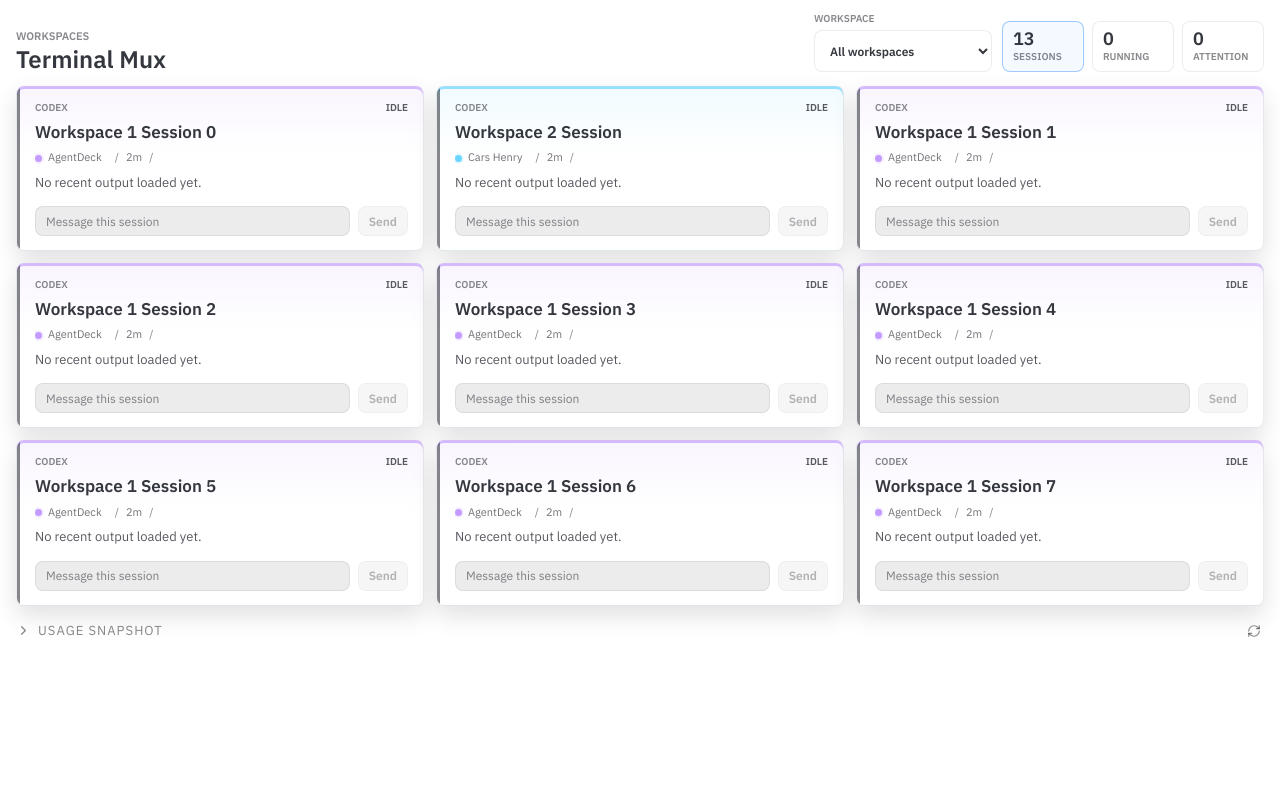
Home › caps a workspace-filtered session deck at nine tiles
The width and height of the screenshot is (1280, 800).
Select "AgentDeck (12)" in the dropdown named "Filter sessions by workspace" at (903, 51), box 814,30 -> 992,72
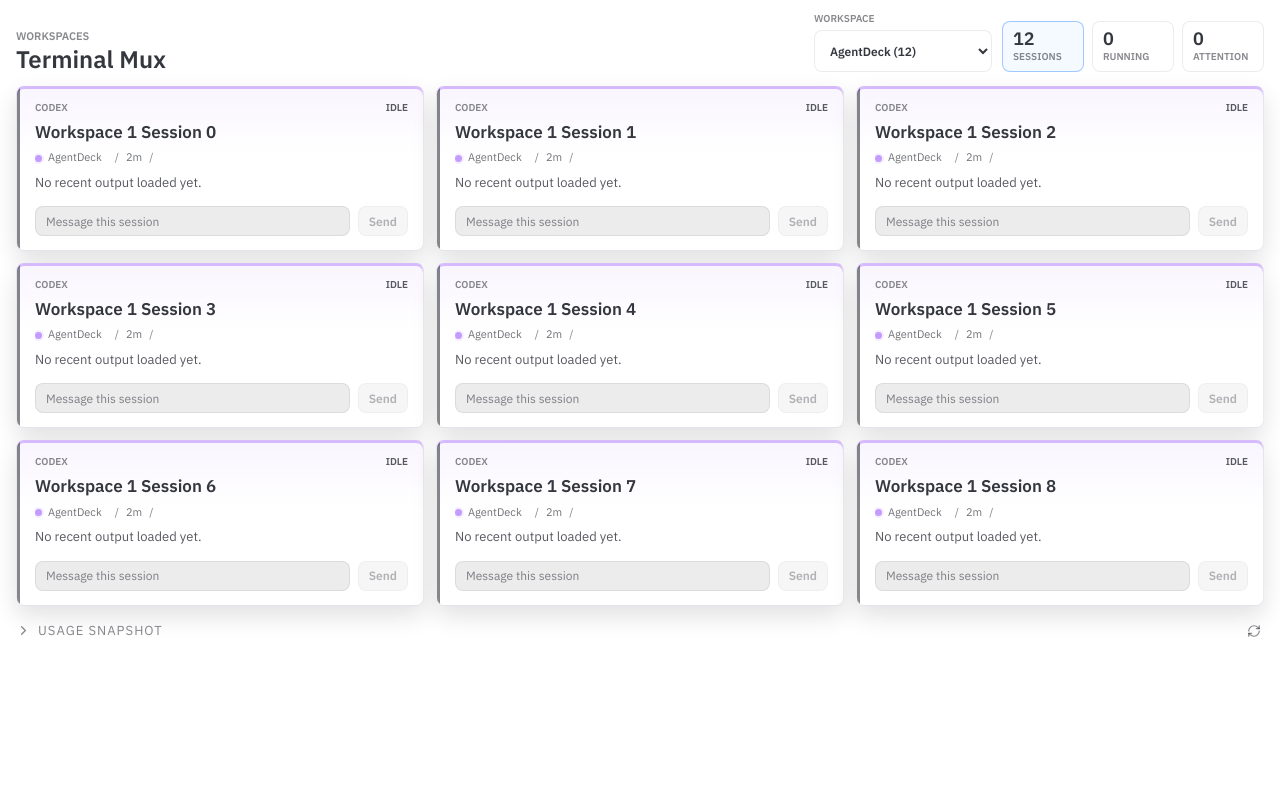
Expected: the button named "12sessions" is shown, 1002,21 -> 1084,72
Result: the button "Workspace 2 Session" is gone
